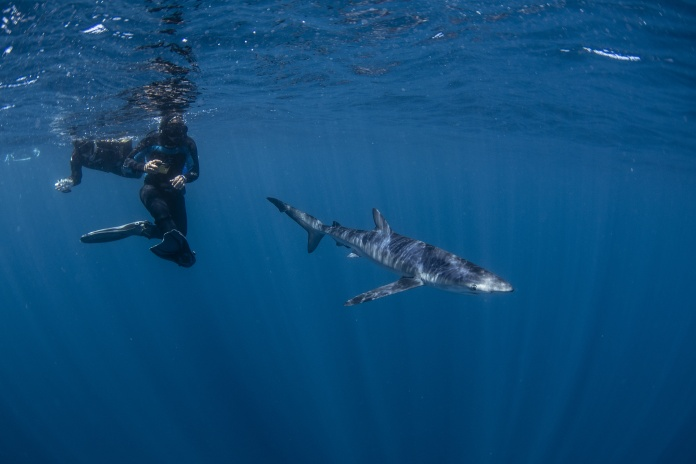Azul: (254, 182, 542, 320)
